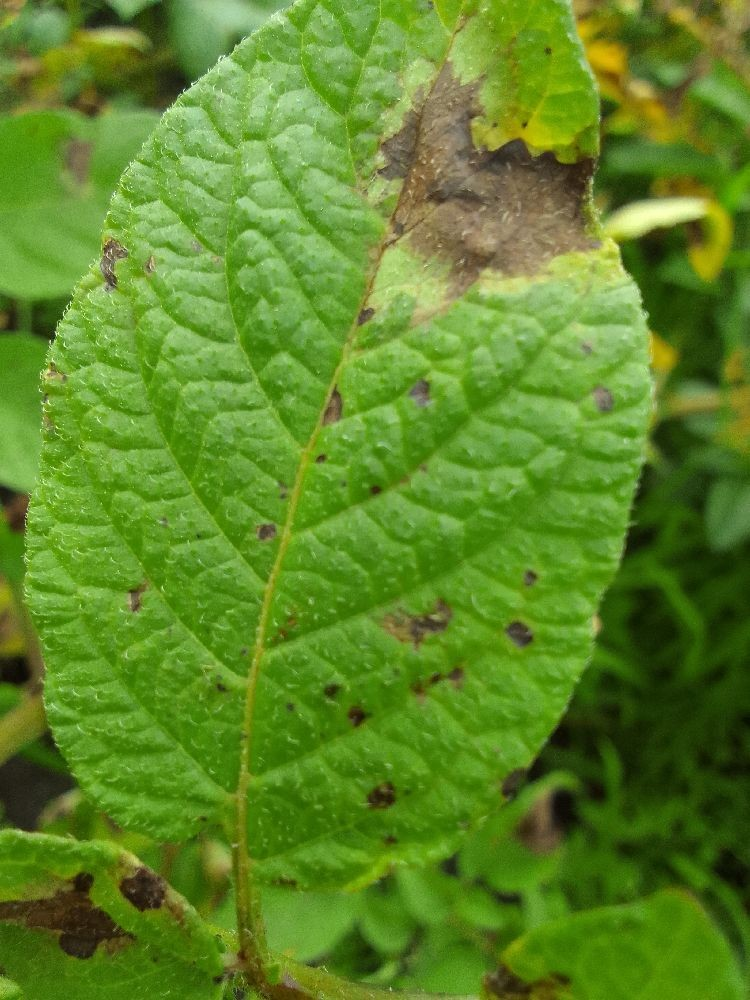late_blight: (355, 44, 618, 326), (0, 564, 103, 861), (30, 0, 202, 135), (0, 854, 153, 977)
